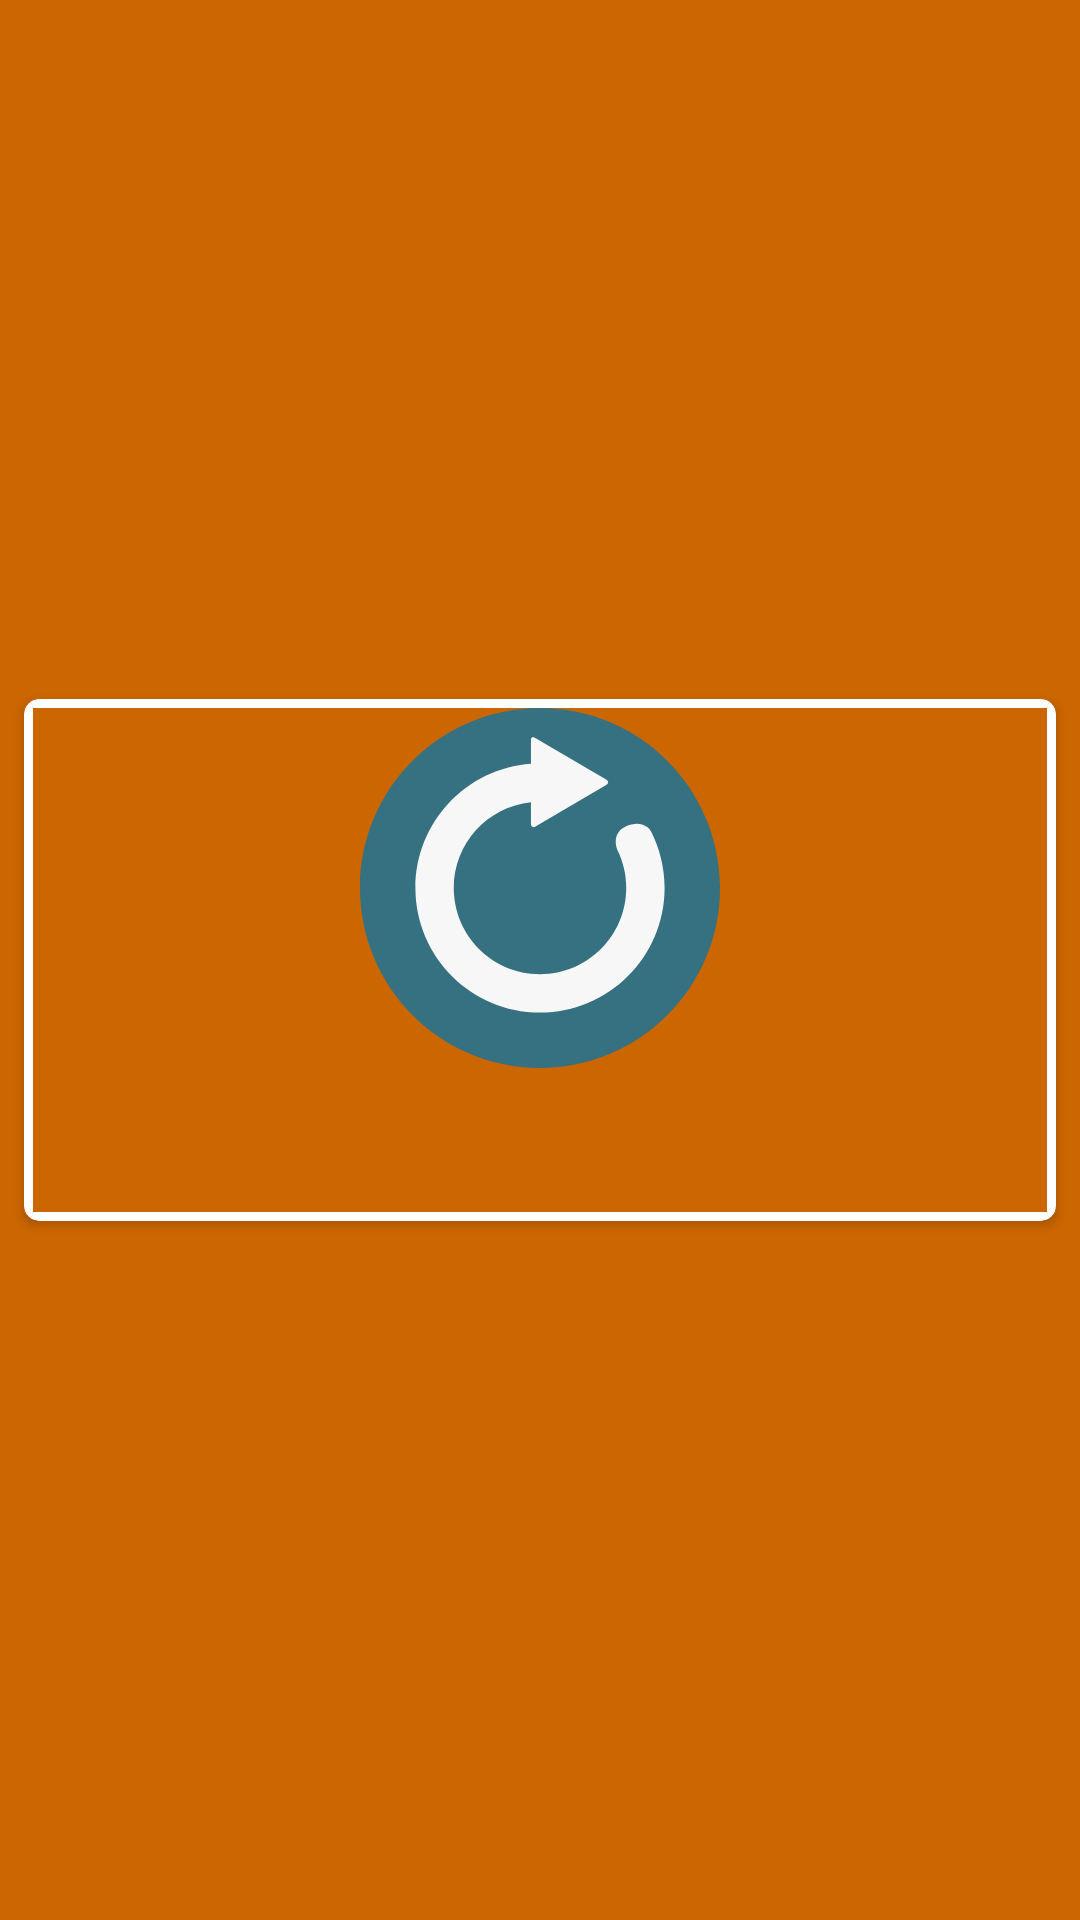

Screen size 1080x1920. Icon name, then its center in pixels as [x,y]:
restart: [540,888]
